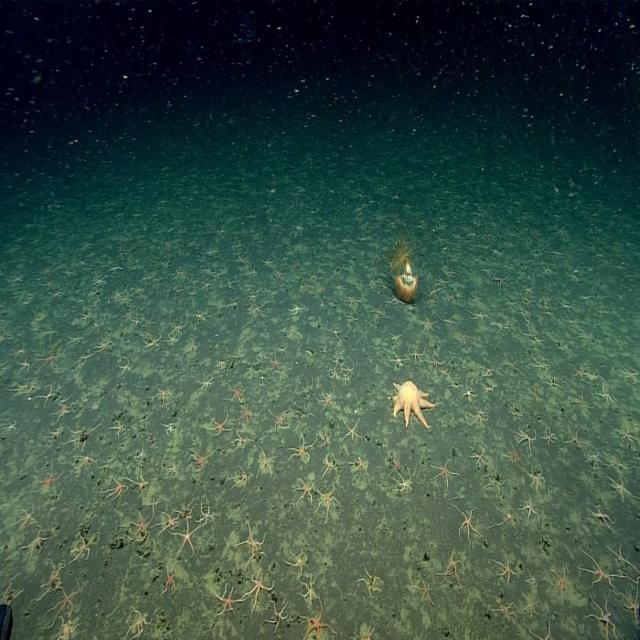brittle-stars: (580, 547, 616, 590), (588, 599, 618, 640), (52, 582, 82, 622), (128, 508, 156, 544), (304, 606, 332, 640), (239, 524, 266, 558), (454, 506, 480, 541), (0, 578, 30, 608), (246, 572, 273, 605), (173, 491, 200, 524), (176, 520, 199, 556), (494, 501, 518, 534), (34, 462, 60, 492), (127, 609, 152, 640), (216, 585, 240, 617), (549, 564, 571, 598), (44, 561, 67, 593), (24, 527, 48, 556), (358, 565, 380, 596), (442, 550, 462, 584), (606, 476, 632, 502), (542, 372, 570, 396), (431, 458, 454, 486), (317, 484, 338, 514), (291, 436, 315, 462), (590, 506, 614, 532), (565, 424, 586, 453), (69, 427, 95, 450), (228, 248, 254, 271), (71, 533, 92, 561), (605, 452, 631, 474), (16, 505, 37, 532), (296, 478, 316, 506), (494, 555, 514, 583), (269, 603, 289, 631), (492, 597, 514, 622), (415, 578, 434, 606), (515, 426, 537, 450), (486, 468, 506, 494), (209, 413, 231, 436), (106, 477, 128, 500), (258, 449, 276, 477), (237, 404, 258, 428), (26, 306, 48, 328), (160, 511, 181, 534), (57, 619, 80, 640), (191, 448, 211, 472), (209, 352, 229, 376), (520, 497, 539, 522), (287, 550, 306, 575), (302, 578, 320, 604), (617, 424, 638, 446), (487, 318, 510, 338), (232, 466, 251, 490), (628, 555, 640, 593), (625, 591, 640, 621), (230, 342, 248, 367), (500, 294, 520, 316), (506, 443, 523, 468), (528, 624, 554, 640), (131, 469, 149, 492), (470, 409, 490, 429), (394, 472, 412, 494), (597, 383, 615, 405), (164, 568, 179, 594), (274, 408, 290, 432), (40, 350, 60, 369), (528, 332, 547, 352), (317, 388, 335, 408), (470, 445, 486, 467), (523, 594, 539, 616), (351, 456, 369, 475), (467, 252, 485, 271), (344, 420, 361, 440), (441, 287, 458, 307), (37, 387, 54, 407), (199, 504, 214, 526), (354, 625, 376, 640), (234, 431, 251, 450), (76, 453, 95, 470), (387, 326, 404, 345), (361, 274, 381, 290), (462, 382, 477, 403), (80, 304, 92, 330), (198, 376, 215, 394), (156, 386, 174, 403), (569, 362, 586, 380), (452, 330, 470, 347), (534, 356, 551, 374), (56, 402, 73, 420), (40, 324, 58, 341), (182, 339, 198, 358), (623, 366, 639, 385), (410, 344, 425, 364), (440, 312, 458, 328), (111, 419, 127, 437), (172, 316, 188, 334), (229, 384, 245, 402), (48, 424, 66, 440), (371, 242, 384, 264), (571, 389, 586, 408), (25, 376, 40, 395), (529, 468, 543, 488), (322, 454, 336, 474), (540, 425, 554, 445), (300, 379, 314, 399), (468, 308, 485, 324), (386, 292, 403, 308), (145, 335, 161, 351), (428, 354, 444, 370), (422, 315, 437, 332), (91, 317, 105, 335), (318, 428, 331, 447), (48, 524, 61, 543), (491, 273, 507, 288), (389, 456, 404, 472), (526, 568, 538, 588), (581, 330, 596, 346), (11, 379, 27, 394), (288, 303, 305, 317), (96, 340, 113, 354), (118, 356, 131, 374), (69, 332, 84, 347), (18, 358, 33, 373), (11, 345, 26, 360), (372, 304, 386, 320), (162, 421, 176, 437), (523, 317, 537, 333), (503, 353, 516, 370), (167, 459, 180, 476), (112, 284, 124, 302), (390, 351, 404, 366), (558, 341, 572, 356), (51, 287, 66, 301), (3, 419, 17, 434), (564, 315, 578, 330), (482, 361, 495, 377), (94, 274, 108, 288), (144, 313, 157, 328), (346, 294, 361, 307), (126, 391, 139, 406), (134, 282, 147, 297), (270, 352, 282, 368), (509, 406, 521, 422), (539, 265, 552, 279), (192, 310, 205, 324), (112, 264, 125, 278), (482, 382, 495, 396), (277, 366, 290, 380), (346, 310, 359, 324), (560, 300, 573, 314), (167, 334, 180, 347), (335, 281, 348, 294), (328, 366, 340, 380), (469, 290, 481, 304), (224, 277, 236, 291), (287, 322, 298, 337), (344, 362, 356, 375), (202, 279, 214, 292), (438, 275, 450, 288), (465, 230, 478, 242), (406, 303, 419, 315), (251, 304, 264, 316), (590, 449, 601, 463), (136, 447, 146, 462), (122, 307, 132, 322), (308, 272, 320, 284), (274, 268, 286, 280), (174, 268, 186, 280), (327, 324, 339, 336), (518, 308, 534, 317), (523, 283, 534, 296), (441, 366, 452, 379), (589, 371, 600, 384), (551, 248, 564, 259), (580, 292, 594, 302), (362, 260, 372, 274), (264, 256, 275, 268), (428, 286, 439, 298), (302, 282, 313, 294), (332, 266, 343, 278), (333, 354, 343, 367), (447, 267, 457, 280), (248, 289, 258, 302), (199, 266, 210, 277), (78, 256, 89, 267), (317, 300, 327, 312), (425, 296, 437, 306), (278, 345, 288, 356), (340, 244, 350, 255), (343, 374, 352, 386), (0, 332, 7, 346)
